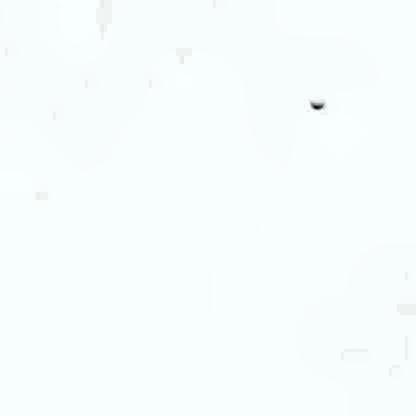golfball: (305, 95, 323, 106)
